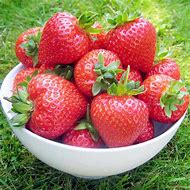Fresa: (27, 71, 89, 138), (88, 91, 149, 147), (41, 11, 91, 66), (107, 16, 156, 72), (138, 74, 190, 123), (74, 47, 124, 96), (16, 26, 47, 67)
